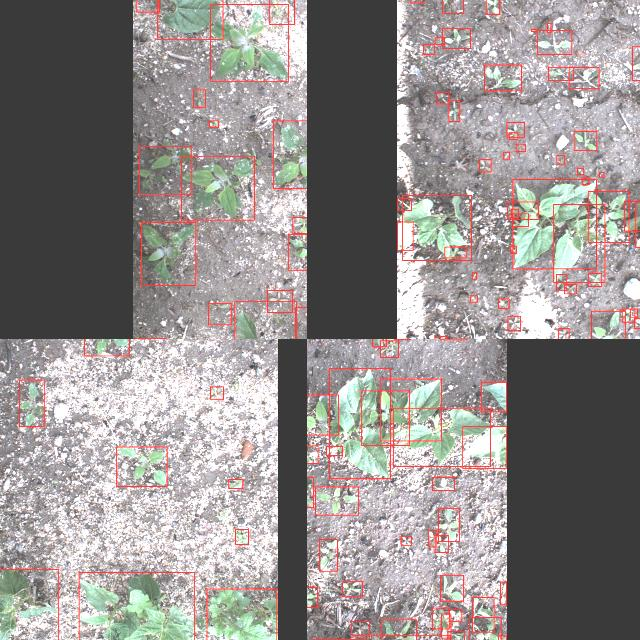crop: (78, 572, 194, 640), (512, 179, 596, 269), (330, 369, 390, 479), (210, 4, 288, 82), (393, 408, 491, 467), (180, 156, 253, 220), (402, 196, 472, 260), (0, 569, 57, 640), (554, 204, 604, 282), (380, 379, 442, 441), (207, 588, 277, 640), (140, 222, 196, 286), (157, 0, 223, 39), (273, 121, 307, 189), (234, 302, 296, 339), (463, 426, 507, 468), (482, 382, 506, 412), (397, 222, 413, 250)
weed: (361, 390, 409, 446), (138, 147, 192, 195), (588, 192, 628, 242), (117, 447, 167, 487), (307, 395, 338, 435), (18, 379, 44, 426), (316, 487, 358, 515), (484, 65, 522, 91), (591, 311, 625, 339), (536, 30, 572, 54), (84, 339, 129, 356), (472, 598, 494, 632), (469, 617, 501, 640), (381, 619, 416, 640), (287, 234, 307, 270), (438, 508, 459, 542), (269, 0, 294, 24), (569, 68, 599, 88), (441, 575, 464, 601), (319, 539, 337, 571), (442, 28, 470, 48), (508, 202, 538, 220), (268, 290, 292, 312), (208, 303, 230, 325), (624, 201, 640, 231), (574, 131, 596, 151), (548, 67, 574, 81), (432, 608, 450, 628), (380, 340, 398, 358), (506, 122, 524, 138), (342, 582, 362, 596), (135, 0, 158, 12), (441, 0, 462, 13), (632, 47, 640, 81), (444, 246, 466, 258), (432, 478, 454, 490), (351, 622, 369, 636), (448, 100, 459, 122), (292, 217, 307, 233), (441, 614, 451, 638), (307, 587, 318, 607), (486, 0, 500, 14), (193, 90, 205, 106), (512, 214, 528, 226), (436, 536, 448, 552), (307, 446, 317, 464), (307, 477, 313, 507), (622, 308, 634, 322), (588, 274, 602, 286), (508, 316, 520, 330), (397, 198, 411, 210), (236, 530, 248, 544), (556, 275, 566, 291), (326, 446, 342, 456), (210, 387, 223, 399), (447, 631, 464, 640), (436, 92, 448, 104), (479, 160, 491, 172), (450, 609, 462, 621), (429, 530, 437, 548), (501, 582, 507, 604), (229, 479, 243, 488), (564, 284, 576, 294), (373, 339, 387, 347), (422, 44, 433, 54), (559, 328, 569, 339), (401, 536, 412, 546), (498, 298, 508, 308), (508, 132, 518, 140), (516, 144, 526, 152), (557, 156, 565, 164), (502, 152, 510, 160), (630, 309, 638, 317), (208, 121, 218, 127), (634, 319, 640, 329), (512, 208, 518, 218), (436, 37, 444, 44), (510, 246, 516, 254), (469, 296, 476, 302), (583, 178, 589, 185), (499, 635, 507, 640), (410, 0, 422, 3), (547, 23, 551, 32), (577, 168, 583, 174), (434, 336, 446, 339), (472, 272, 476, 280), (600, 172, 604, 178), (530, 29, 536, 31)
